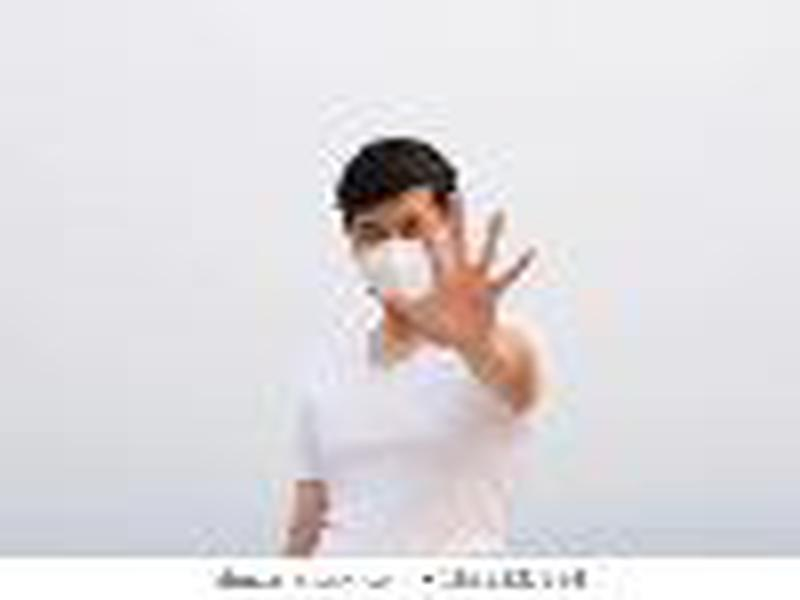with_mask: (333, 137, 463, 300)
